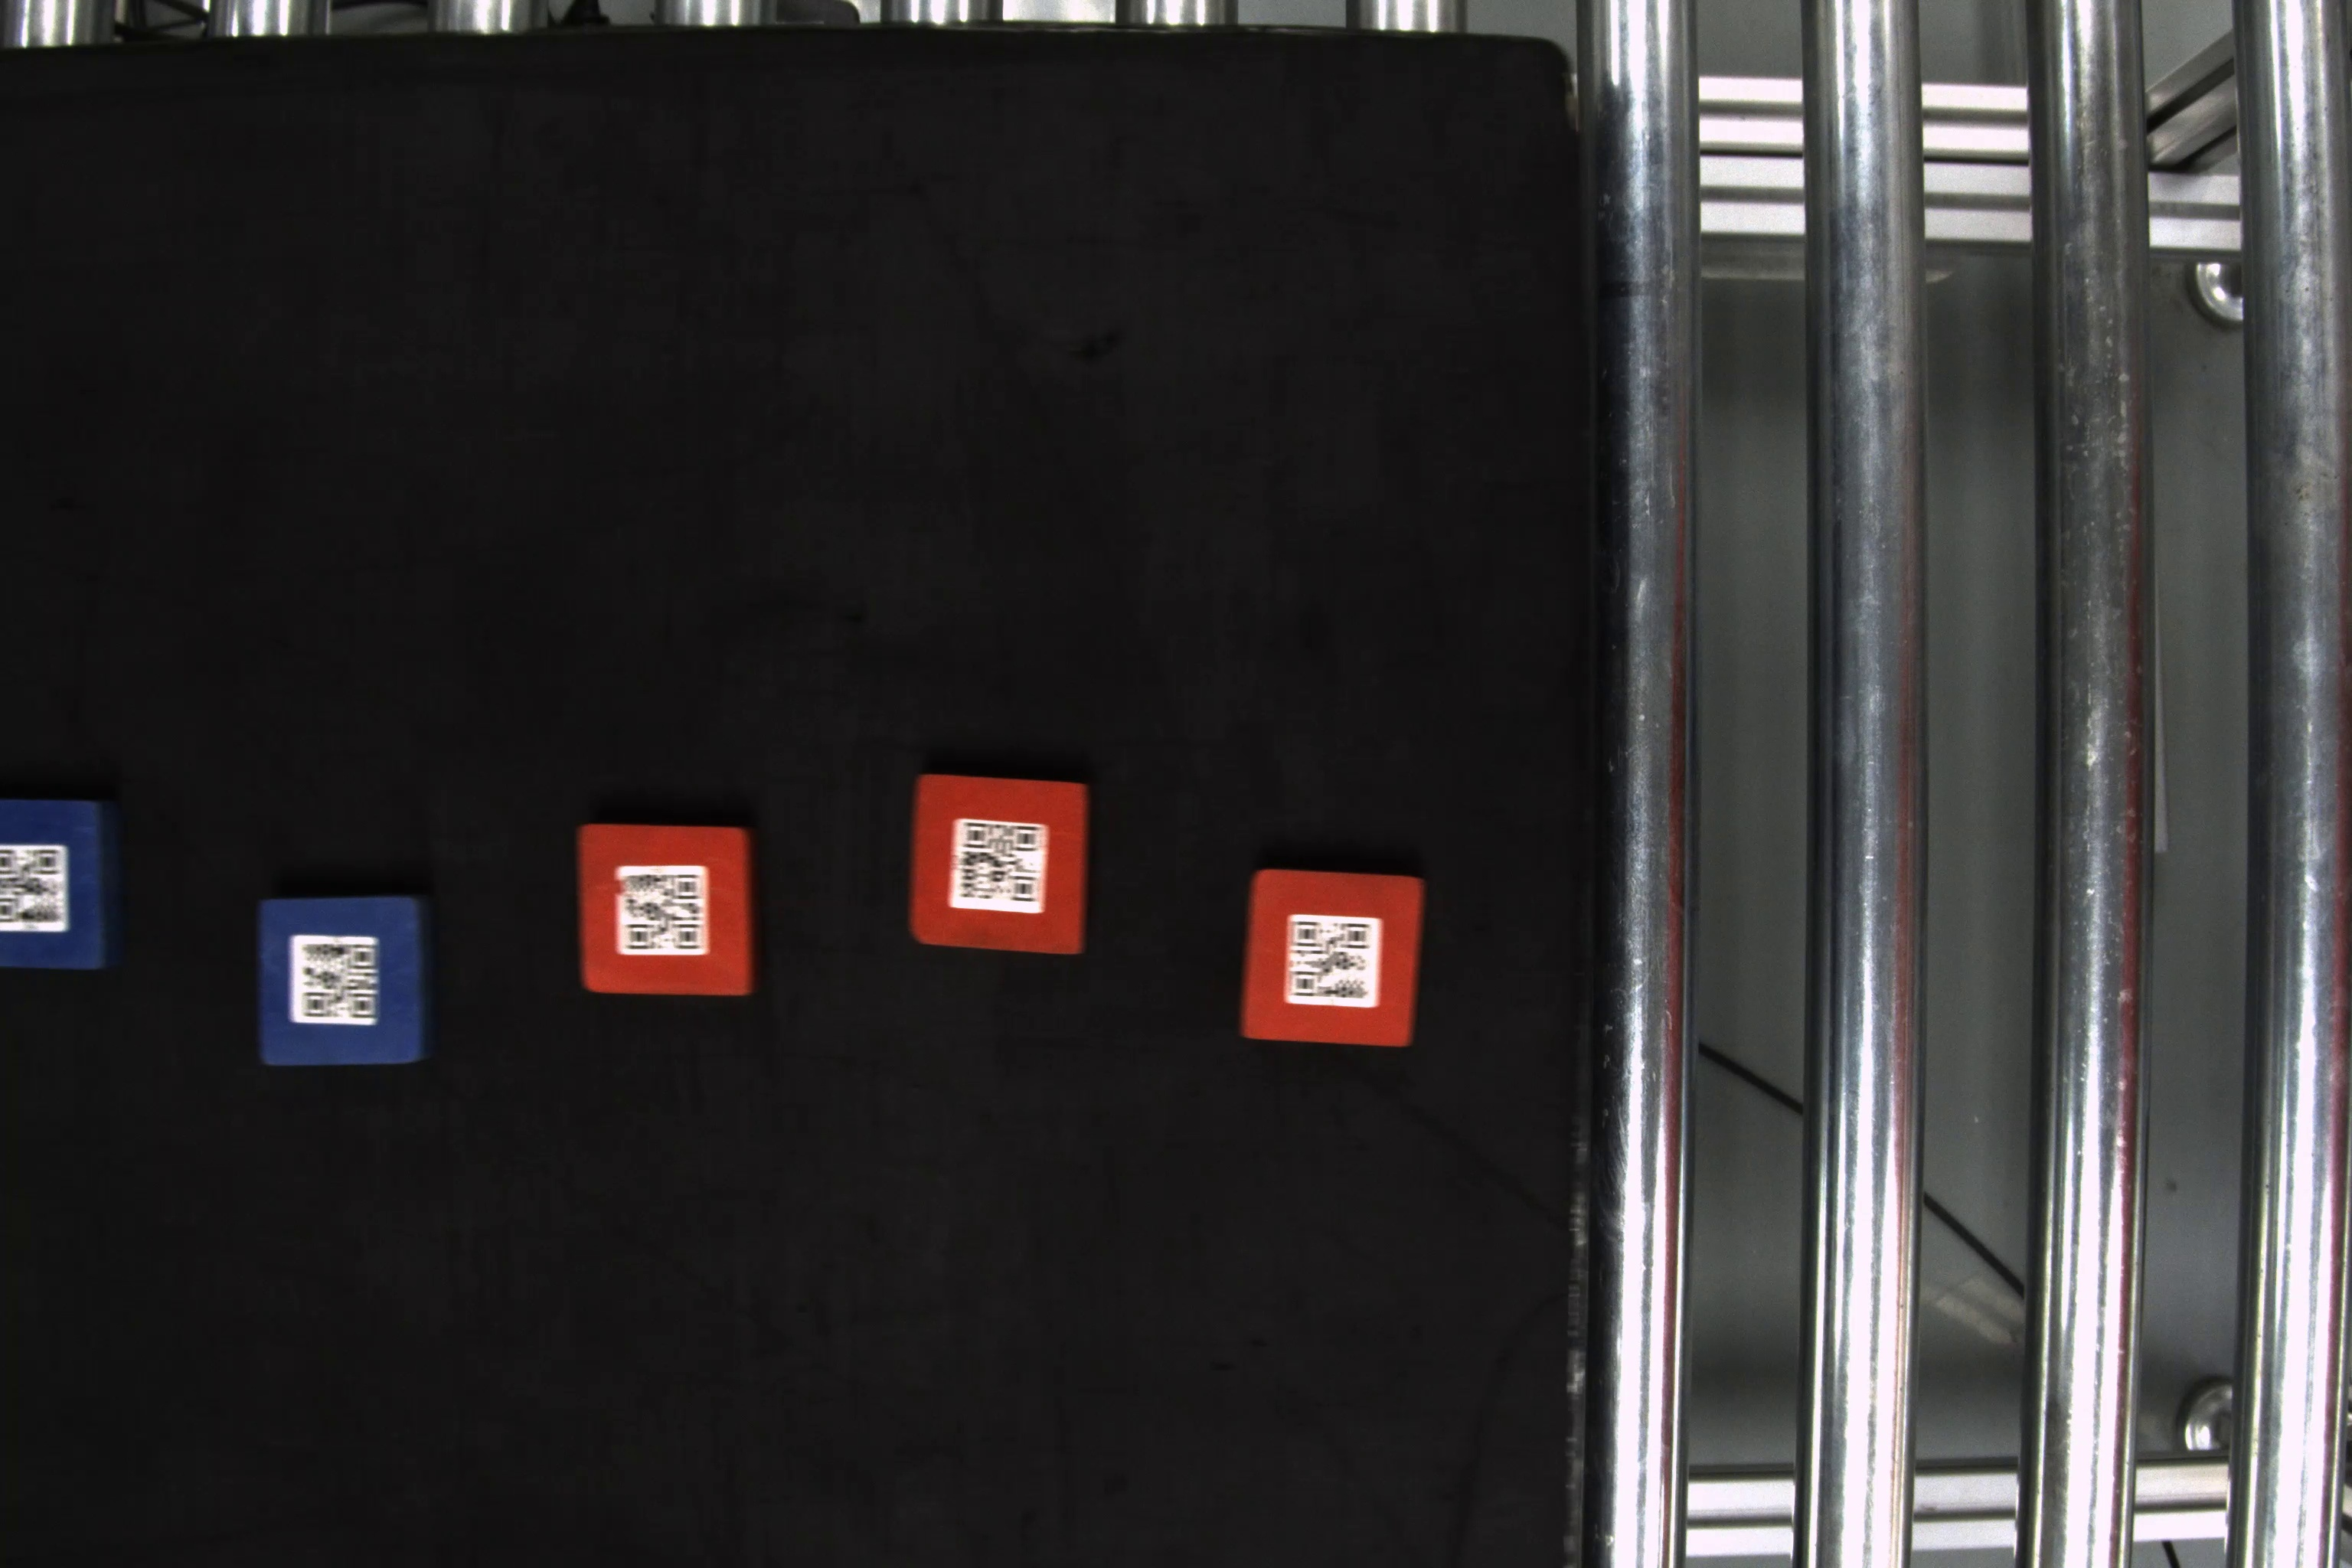wood: (569, 817, 761, 1006), (913, 765, 1094, 955), (254, 884, 434, 1071), (1246, 868, 1416, 1048), (5, 793, 119, 973)
